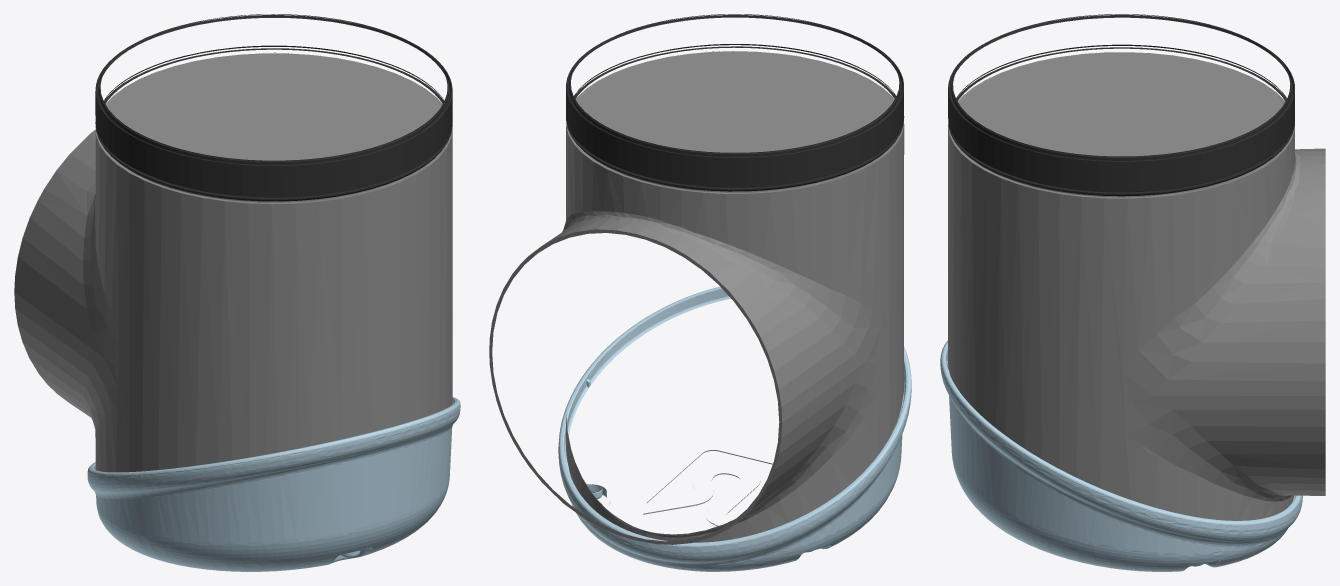
Rendered from wrist2.glb.
3 views of the same model, side by side, from view 1: azimuth 30°, elevation 25°; view 2: azimuth 150°, elevation 25°; view 3: azimuth 270°, elevation 25° (orthographic). The views are drawn at different scales.
Visible parts, largest first — view 1: geometry_0; view 2: geometry_0; view 3: geometry_0.
Boxes of the visible parts, left/top/right/bottom form: geometry_0: left=14, top=14, right=460, bottom=571; geometry_0: left=489, top=14, right=911, bottom=571; geometry_0: left=940, top=14, right=1325, bottom=571.
Bounding box in the file's own units: 0.094 × 0.1249 × 0.0999.
1 material, 1 textured.
